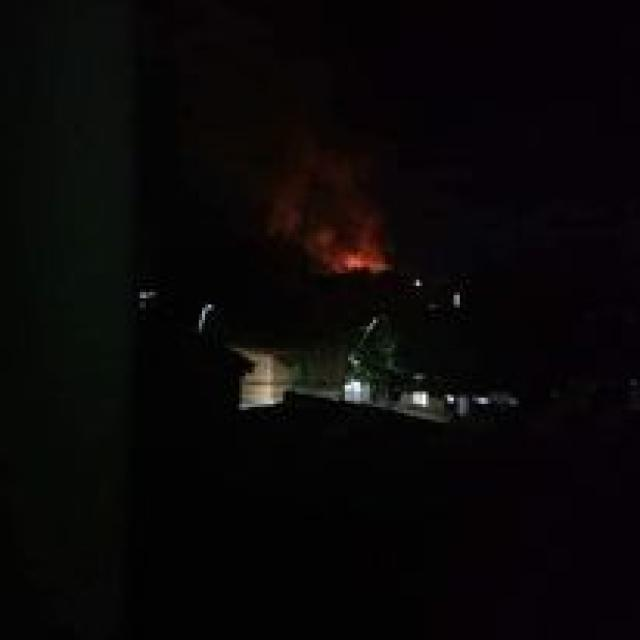Smoke: (287, 50, 382, 259)
